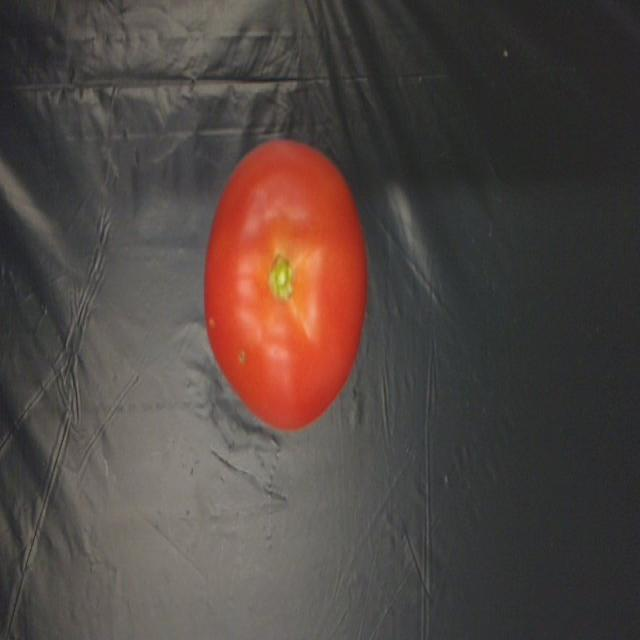sari: (194, 139, 369, 427)
